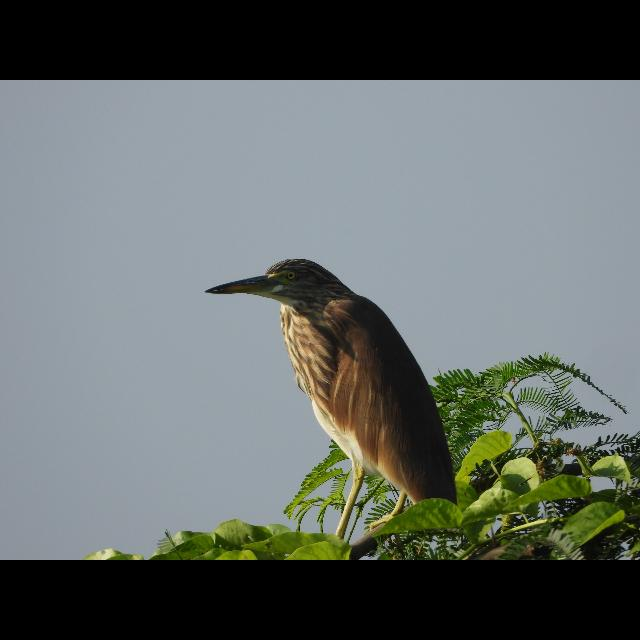heron: (204, 256, 458, 516)
